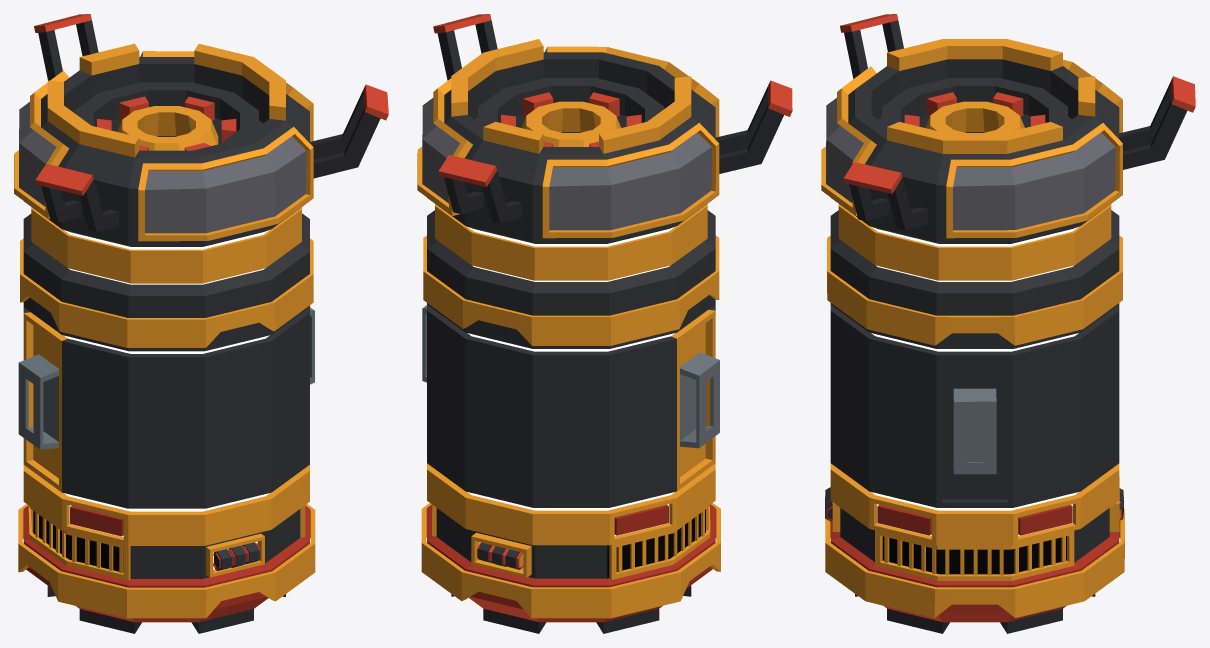
Rendered from SM_Barrel_Gasoline.glb.
3 renders of one model, left to right at view 1: azimuth 30°, elevation 25°; view 2: azimuth 150°, elevation 25°; view 3: azimuth 270°, elevation 25°, orthographic.
Parts seen in each view (by area): view 1: SM_Barrel_Gasoline; view 2: SM_Barrel_Gasoline; view 3: SM_Barrel_Gasoline.
Boxes of the visible parts, box(x1,y1,x2,y2) form: SM_Barrel_Gasoline: box(14, 14, 388, 633); SM_Barrel_Gasoline: box(417, 14, 792, 633); SM_Barrel_Gasoline: box(821, 14, 1195, 633).
Size of the model in its own units: 0.8024 by 1.06 by 0.7293.
Materials: 2 (1 with a texture image).
